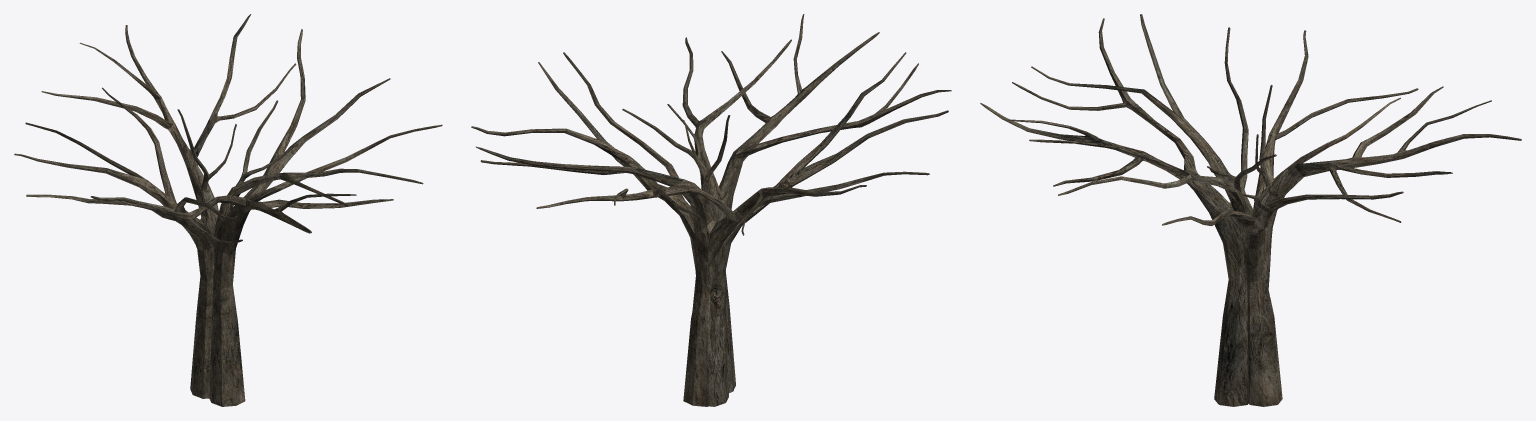
File: 1_TREE_TRUNK_01_2-transformed.glb
The picture shows the model from 3 angles, left to right: view 1: azimuth 30°, elevation 25°; view 2: azimuth 150°, elevation 25°; view 3: azimuth 270°, elevation 25°; orthographic projection. The views are drawn at different scales.
Visible parts, largest first — view 1: default; view 2: default; view 3: default.
Part boxes in pixels (x1,y1,x2,y2): default: [14, 14, 442, 406]; default: [471, 14, 951, 406]; default: [980, 14, 1521, 406].
Bounding box in the file's own units: 11.96 × 8.43 × 13.85.
1 material, 1 textured.
